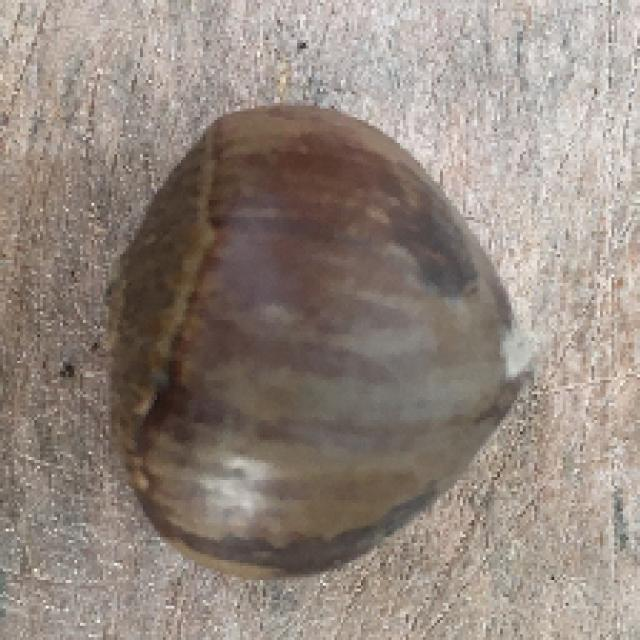DamagedHazelnut: (102, 102, 549, 583)
